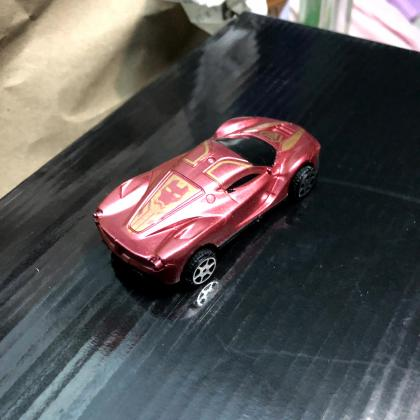Car: (92, 116, 322, 289)
